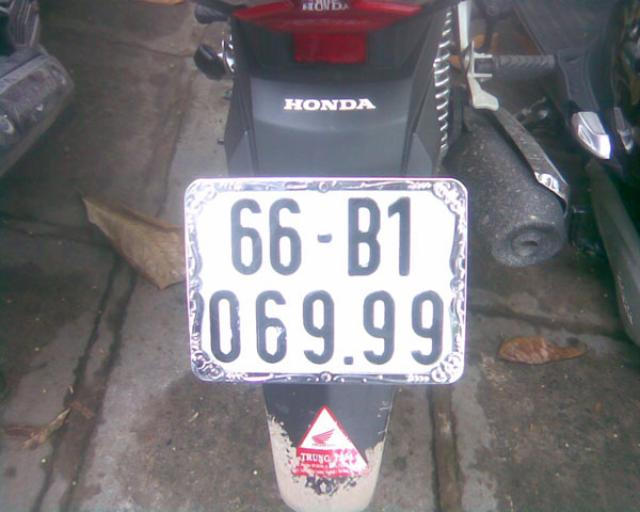plate: (186, 178, 464, 384)
